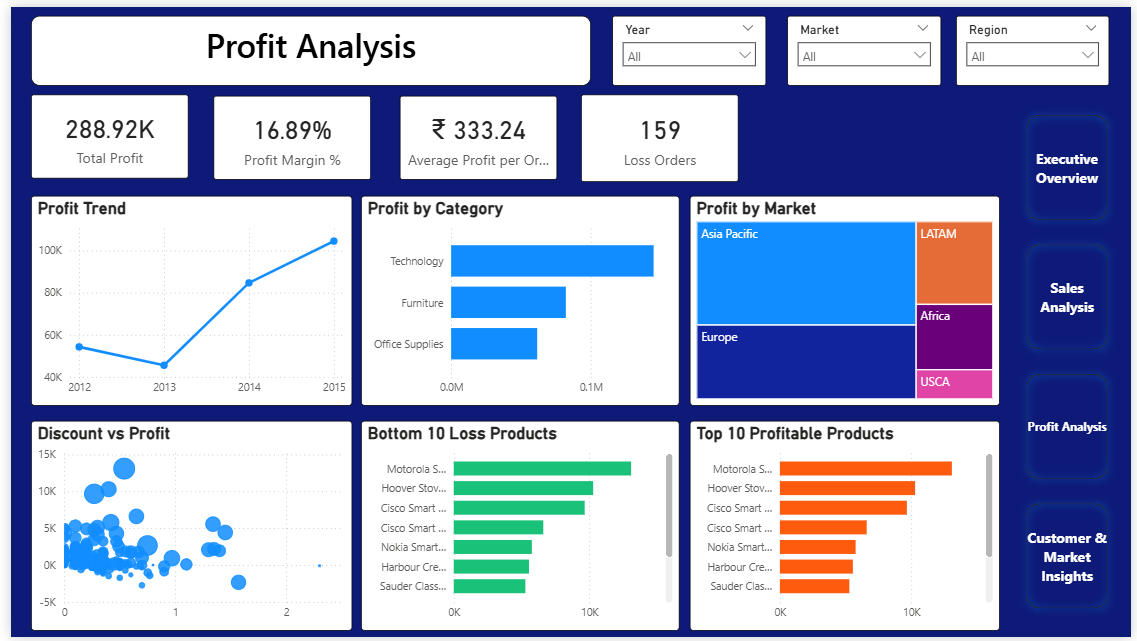

What the dashboard file says about the page in this screenshot:
{"tool":"powerbi","page":{"name":"Profit Analysis","canvas":[1280,720],"ordinal":2},"visuals":[{"type":"textbox","box":[22.9,10,640,80],"z":0},{"type":"slicer","fields":{"Values":["Global_Superstore_cleaned.Order Date.Variation.Date Hierarchy.Year"]},"box":[687.1,10,175.7,80],"z":1000},{"type":"slicer","fields":{"Values":["Global_Superstore_cleaned.Market"]},"box":[887.1,10,175.7,80],"z":2000},{"type":"slicer","fields":{"Values":["Global_Superstore_cleaned.Region"]},"box":[1080,10,175,80],"z":3000},{"type":"card","fields":{"Values":["Measures (2).Total Profit"]},"box":[22.9,100,180,95.7],"z":4000},{"type":"card","fields":{"Values":["Measures (2).Profit Margin %"]},"box":[231.4,101.4,180,95.7],"z":5000},{"type":"card","fields":{"Values":["Measures (2).Average Profit per Order"]},"box":[444.3,101.4,180,95.7],"z":6000},{"type":"card","fields":{"Values":["Measures (2).Loss Orders"]},"box":[651.4,100,180,100],"z":7000},{"type":"lineChart","title":"Profit Trend","fields":{"Category":["Global_Superstore_cleaned.Order Year"],"Y":["Sum(Global_Superstore_cleaned.Profit)"]},"box":[22.9,215.7,367.1,240],"z":8000},{"type":"clusteredBarChart","title":"Profit by Category","fields":{"Category":["Global_Superstore_cleaned.Category"],"Y":["Sum(Global_Superstore_cleaned.Profit)"]},"box":[400,215.7,364.3,240],"z":9000},{"type":"scatterChart","title":"Discount vs Profit","fields":{"X":["Sum(Global_Superstore_cleaned.Discount)"],"Y":["Sum(Global_Superstore_cleaned.Profit)"],"Category":["Global_Superstore_cleaned.Product Name"],"Size":["Sum(Global_Superstore_cleaned.Sales)"]},"box":[22.9,472.9,367.1,240],"z":10000},{"type":"treemap","title":"Profit by Market","fields":{"Group":["Global_Superstore_cleaned.Market"],"Values":["Sum(Global_Superstore_cleaned.Profit)"]},"box":[775.7,215.7,354.3,240],"z":11000},{"type":"clusteredBarChart","title":"Bottom 10 Loss Products","fields":{"Category":["Global_Superstore_cleaned.Product Name"],"Y":["Sum(Global_Superstore_cleaned.Profit)"]},"box":[400,472.9,364.3,240],"z":12000},{"type":"clusteredBarChart","title":"Top 10 Profitable Products","fields":{"Category":["Global_Superstore_cleaned.Product Name"],"Y":["Sum(Global_Superstore_cleaned.Profit)"]},"box":[775.7,472.9,354.3,240],"z":13000},{"type":"pageNavigator","box":[1151.4,114.3,111.4,584.3],"z":14000}]}

Visuals, with their boxes in screenshot pixels (x1, y1, x2, y2), scaled from the page's 1280x720 canvas onto the 1137x641 screenshot:
textbox: <region>20, 9, 589, 80</region>
slicer - Global_Superstore_cleaned.Order Date.Variation.Date Hierarchy.Year: <region>610, 9, 766, 80</region>
slicer - Global_Superstore_cleaned.Market: <region>788, 9, 944, 80</region>
slicer - Global_Superstore_cleaned.Region: <region>959, 9, 1115, 80</region>
card - Measures (2).Total Profit: <region>20, 89, 180, 174</region>
card - Measures (2).Profit Margin %: <region>206, 90, 365, 175</region>
card - Measures (2).Average Profit per Order: <region>395, 90, 555, 175</region>
card - Measures (2).Loss Orders: <region>579, 89, 739, 178</region>
"Profit Trend" lineChart: <region>20, 192, 346, 406</region>
"Profit by Category" clusteredBarChart: <region>355, 192, 679, 406</region>
"Discount vs Profit" scatterChart: <region>20, 421, 346, 635</region>
"Profit by Market" treemap: <region>689, 192, 1004, 406</region>
"Bottom 10 Loss Products" clusteredBarChart: <region>355, 421, 679, 635</region>
"Top 10 Profitable Products" clusteredBarChart: <region>689, 421, 1004, 635</region>
pageNavigator: <region>1023, 102, 1122, 622</region>
